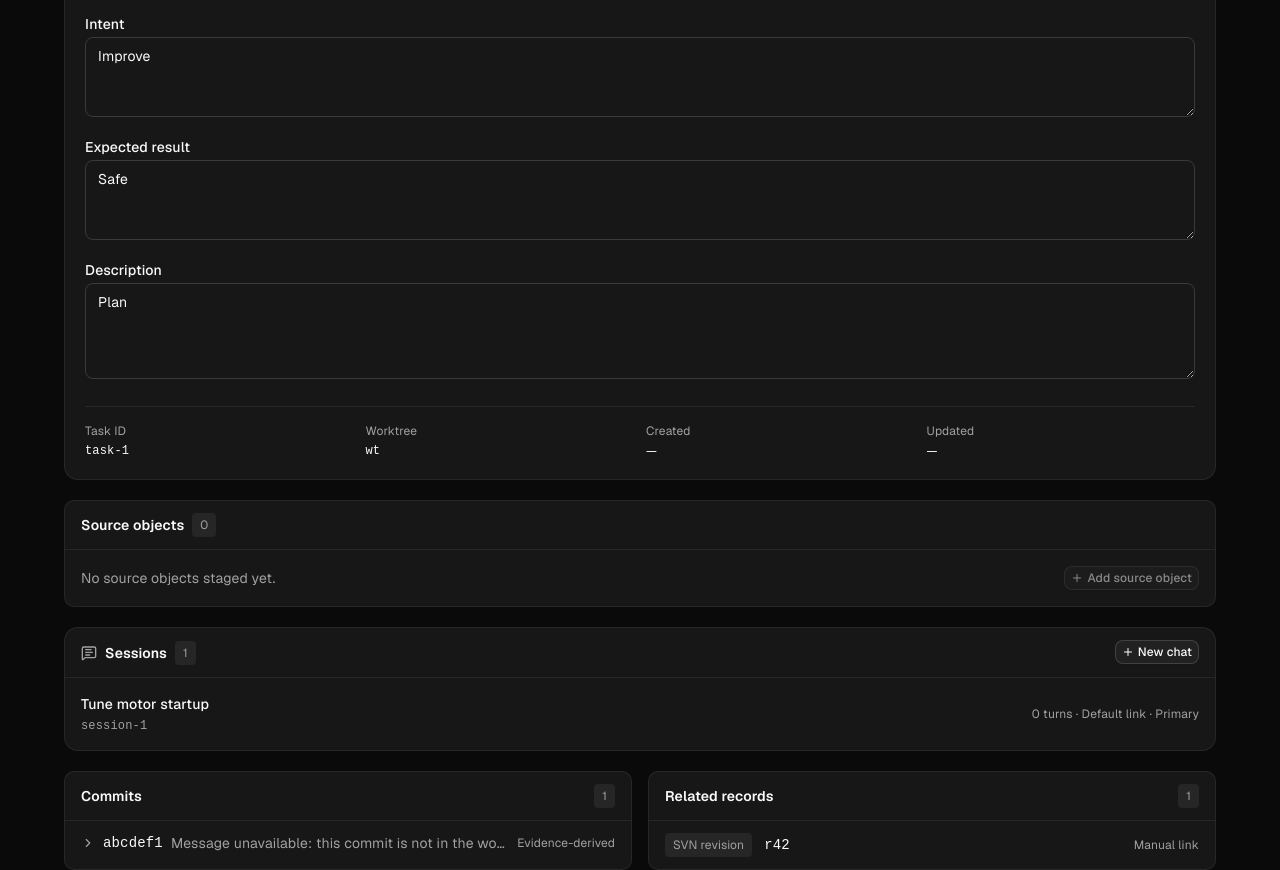
it: TaskDetail › starts a conversation for the task from the Sessions header
(page scrolled)
Click the button with aria-label "New chat for Motor update" at point(1157, 652), box [1115,640,1199,664]
(page scrolled)
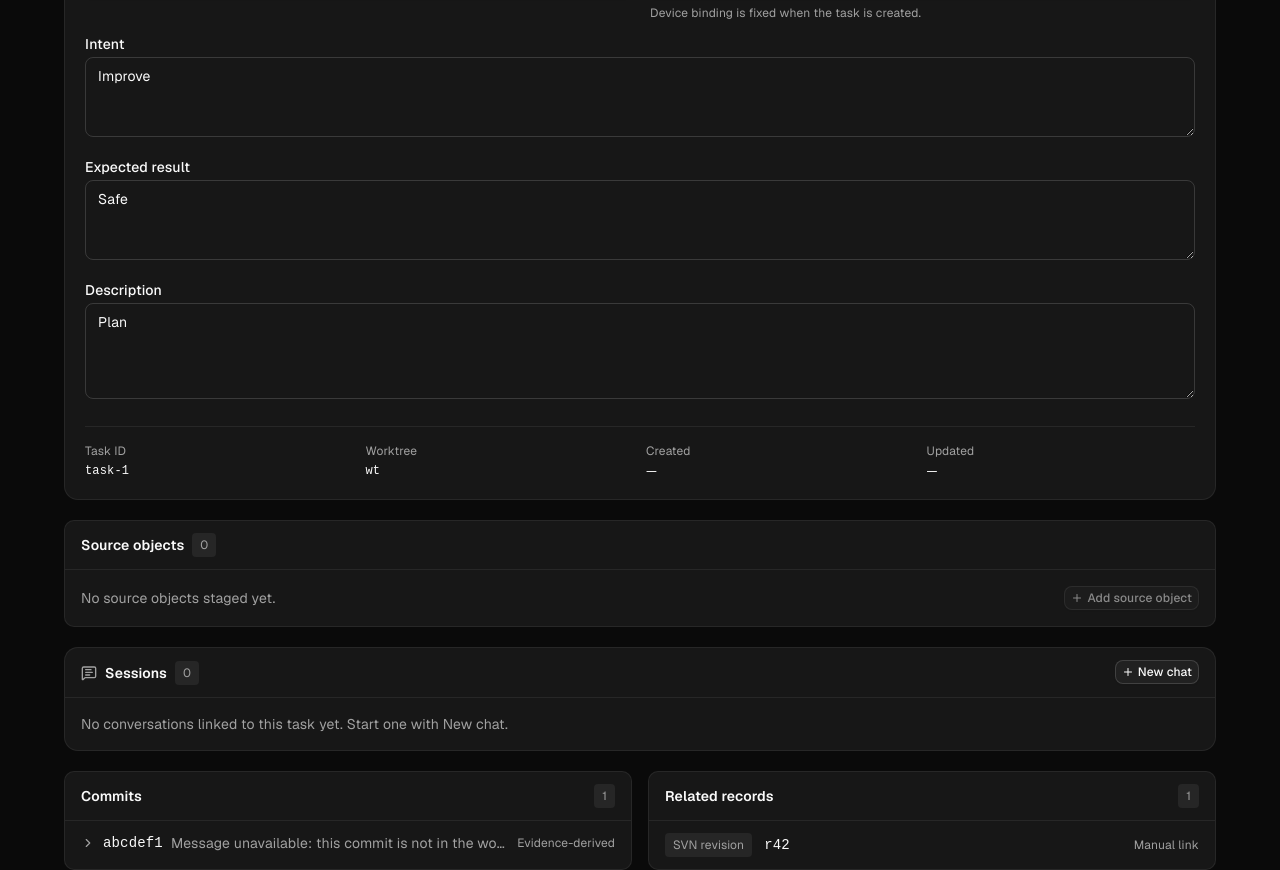
Now the text "Start one with New chat." is shown, box [343,715,508,733]
